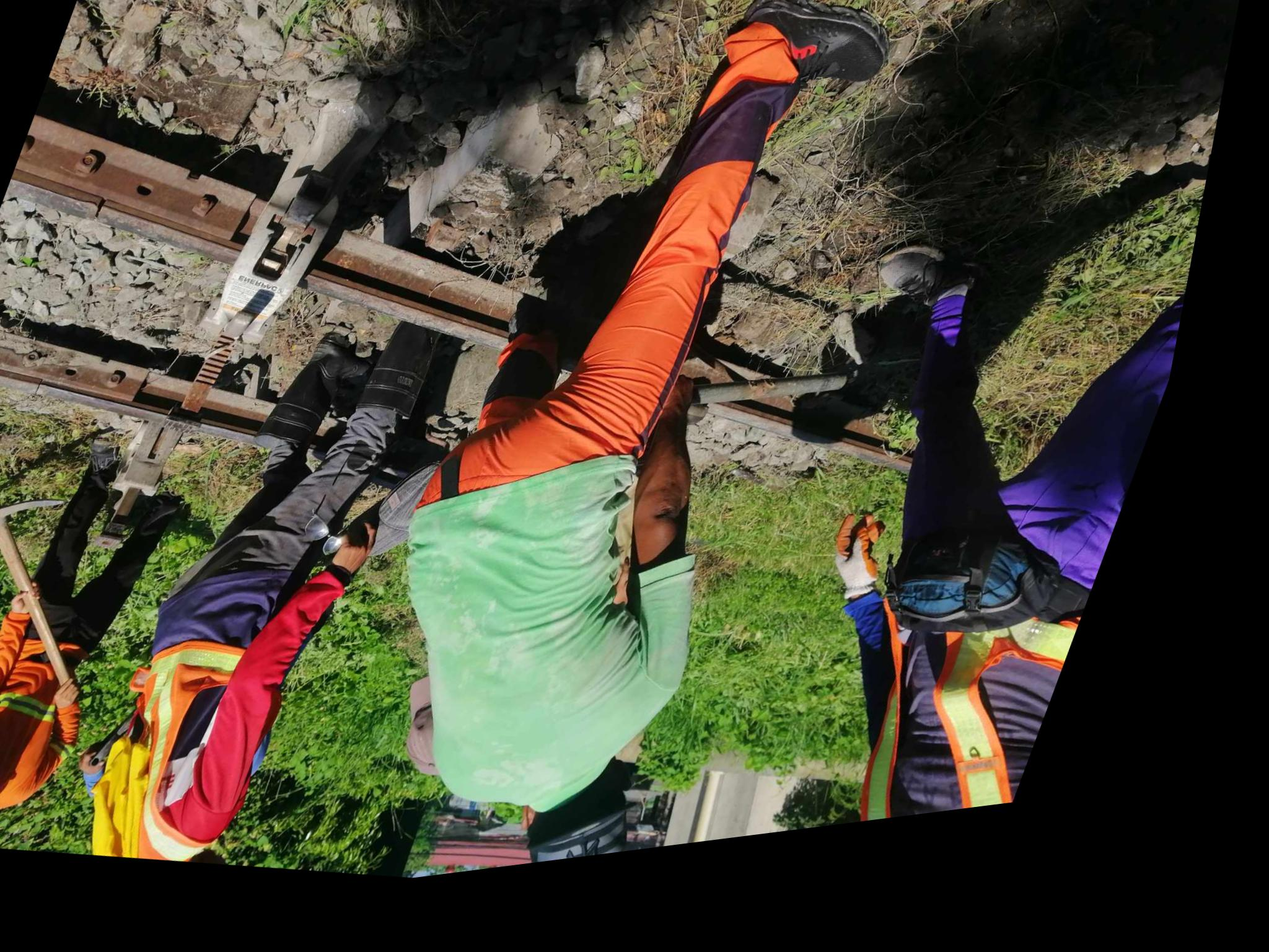person: (59, 167, 155, 259), (13, 346, 97, 426)
